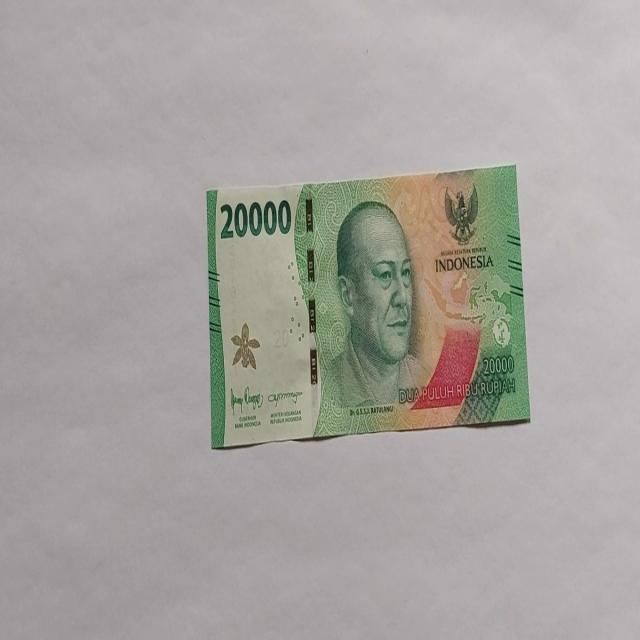dua puluh ribu rupiah: (206, 162, 531, 450), (316, 197, 433, 431)
